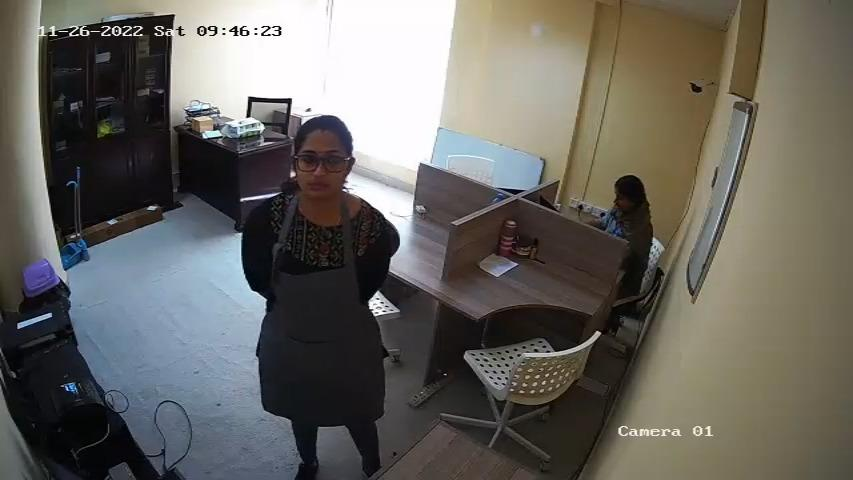apron: (260, 208, 376, 412)
